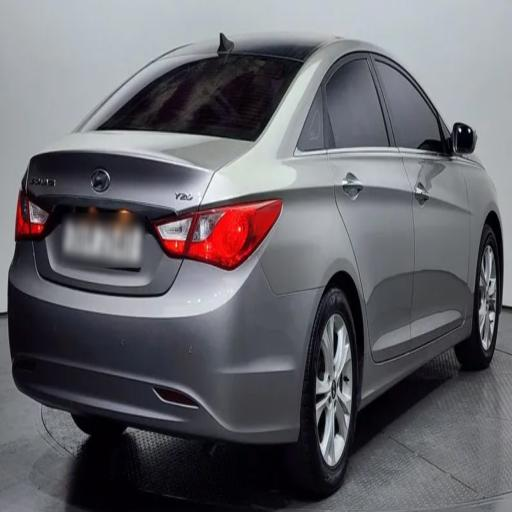normal: (11, 6, 503, 494)
